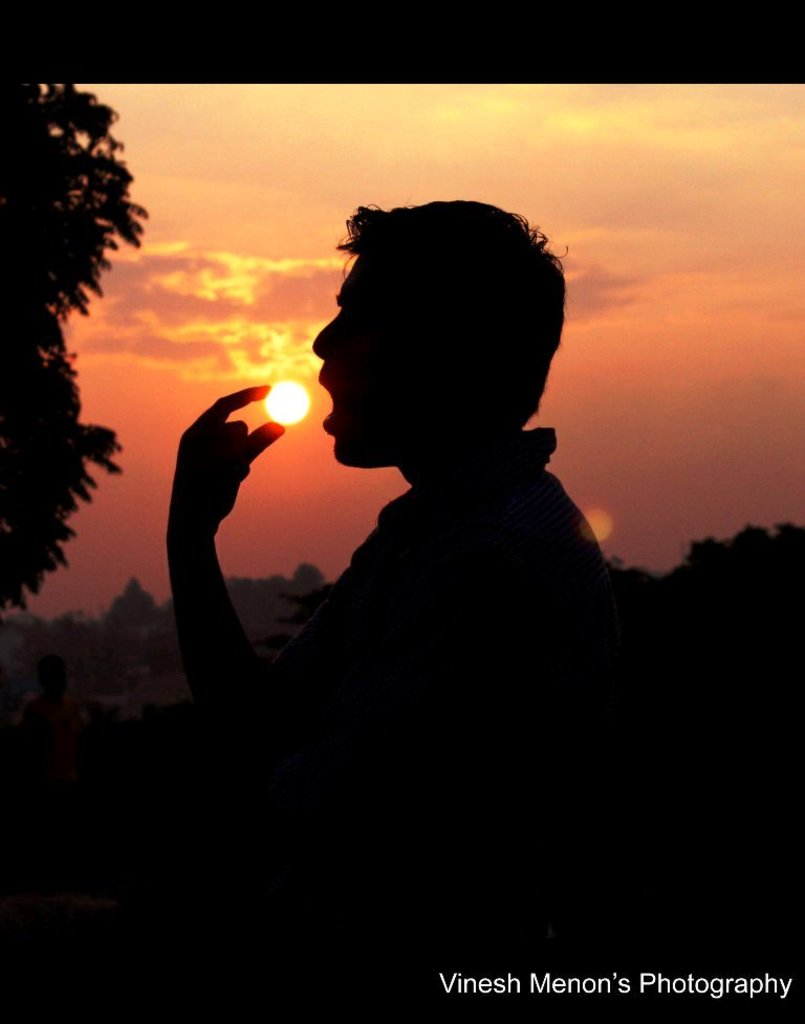face: (312, 233, 412, 452)
